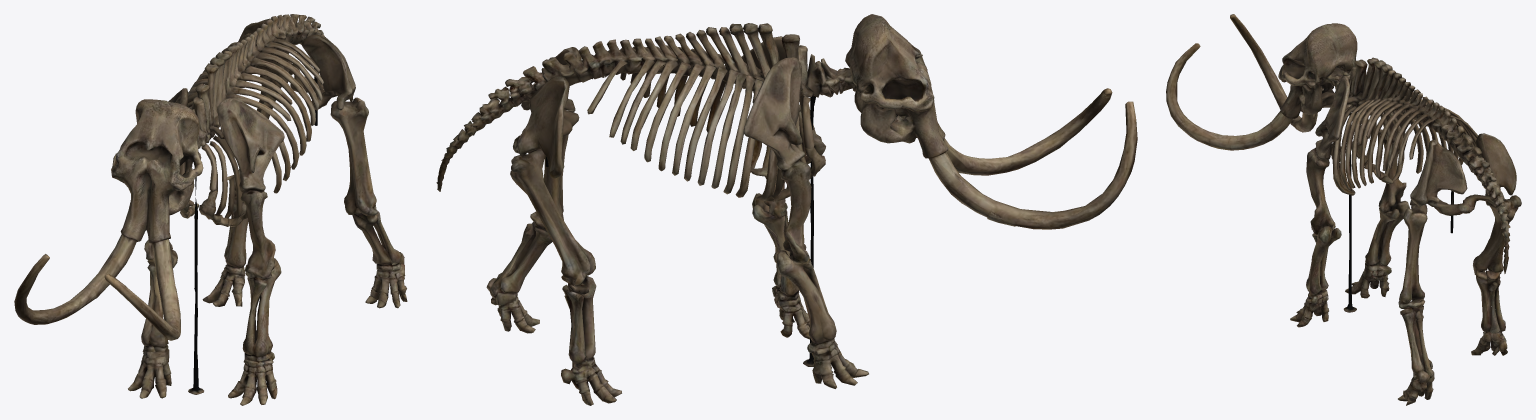
Rendered from mammoth_skeleton.glb.
The picture shows the model from 3 angles, left to right: view 1: azimuth 30°, elevation 25°; view 2: azimuth 150°, elevation 25°; view 3: azimuth 270°, elevation 25°; orthographic projection. The views are drawn at different scales.
Visible parts, largest first — view 1: tripo_node_6dce8742-141e-47fa-aa75-f1ddcfc25dce; view 2: tripo_node_6dce8742-141e-47fa-aa75-f1ddcfc25dce; view 3: tripo_node_6dce8742-141e-47fa-aa75-f1ddcfc25dce.
Part boxes in pixels (x1=…): tripo_node_6dce8742-141e-47fa-aa75-f1ddcfc25dce: x1=14, y1=14, x2=407, y2=405; tripo_node_6dce8742-141e-47fa-aa75-f1ddcfc25dce: x1=436, y1=14, x2=1137, y2=405; tripo_node_6dce8742-141e-47fa-aa75-f1ddcfc25dce: x1=1166, y1=14, x2=1521, y2=405.
Bounding box in the file's own units: 0.9811 × 0.6039 × 0.7328.
1 material, 1 textured.
